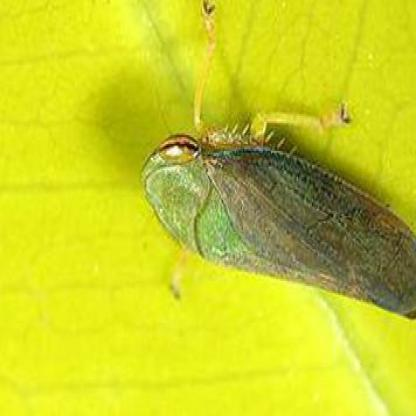green-leafhopper: (153, 128, 414, 310)
